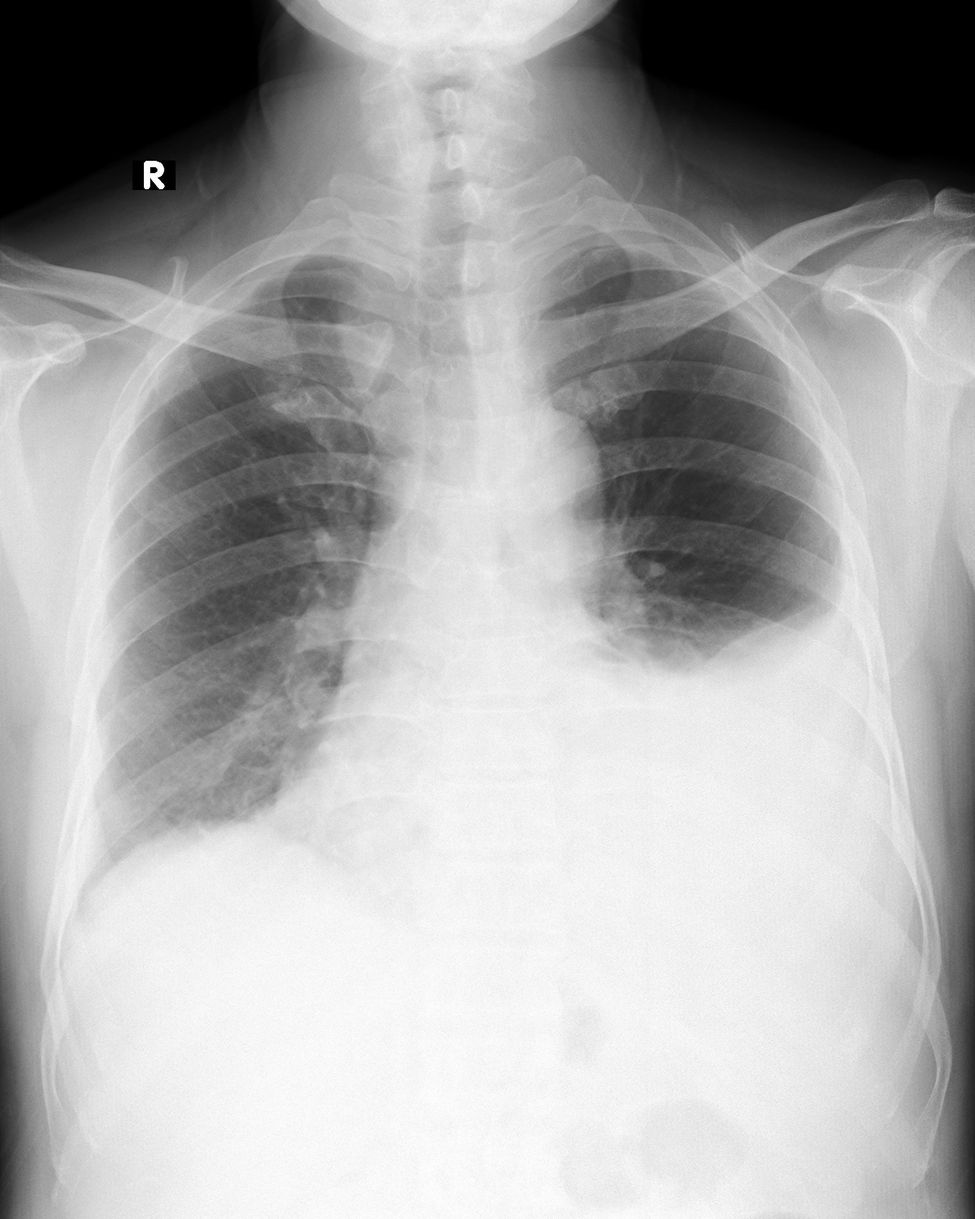Pleural thickening: (205, 260, 296, 320), (702, 268, 782, 335)
